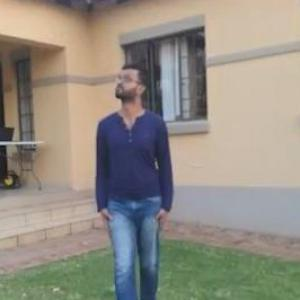follow: (90, 61, 173, 299)
